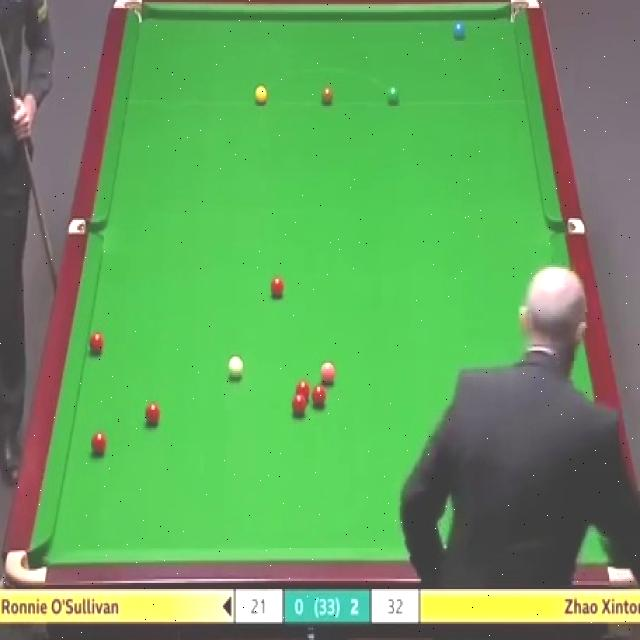blue-ball: (454, 22, 464, 42)
brown-ball: (320, 88, 334, 104)
green-ball: (386, 84, 401, 108)
pink-ball: (320, 360, 336, 384)
red-ball: (87, 331, 105, 356), (311, 384, 327, 408), (296, 379, 310, 404), (145, 402, 159, 427), (90, 432, 106, 453), (268, 277, 284, 297), (292, 394, 306, 414)
white-ball: (227, 355, 244, 380)
yellow-ball: (254, 84, 268, 106)
